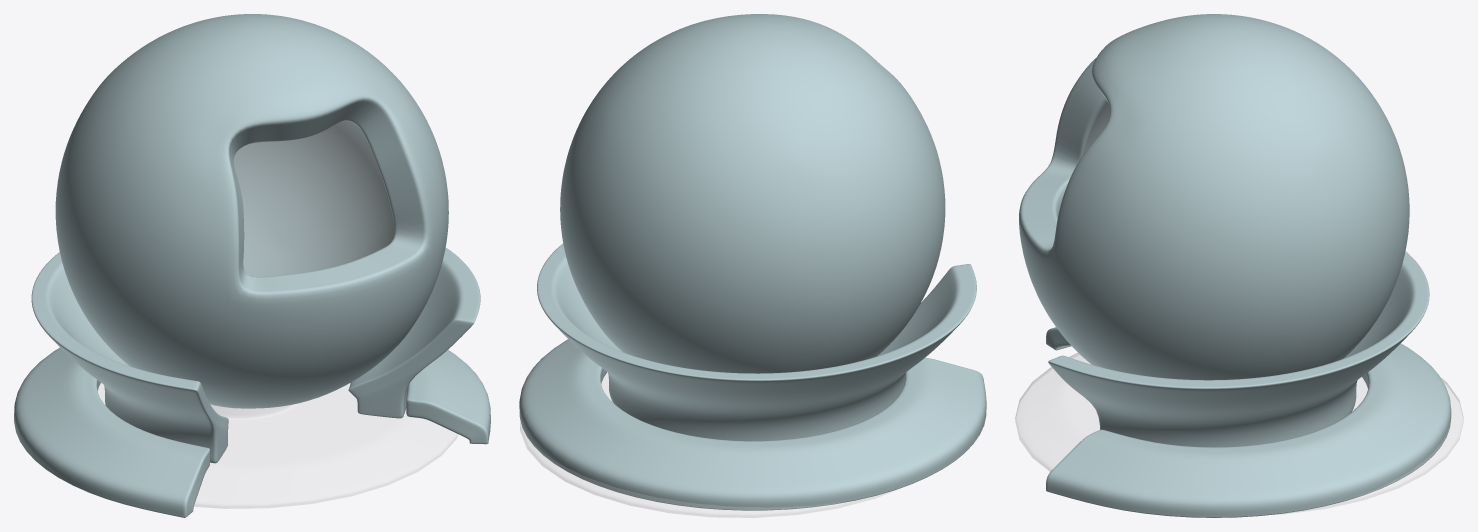
File: mitsuba_knob.glb
3 views of the same model, side by side, from view 1: azimuth 30°, elevation 25°; view 2: azimuth 150°, elevation 25°; view 3: azimuth 270°, elevation 25° (orthographic). The views are drawn at different scales.
Visible parts, largest first — view 1: outer, inner; view 2: outer, inner; view 3: outer, inner.
Part boxes in pixels (bbox=[...]): outer: bbox=[14, 14, 490, 517]; inner: bbox=[98, 121, 457, 508]; outer: bbox=[519, 14, 986, 510]; inner: bbox=[520, 372, 895, 517]; outer: bbox=[1019, 14, 1451, 517]; inner: bbox=[1015, 101, 1463, 514].
Bounding box in the file's own units: 2.44 × 2.21 × 2.31.
